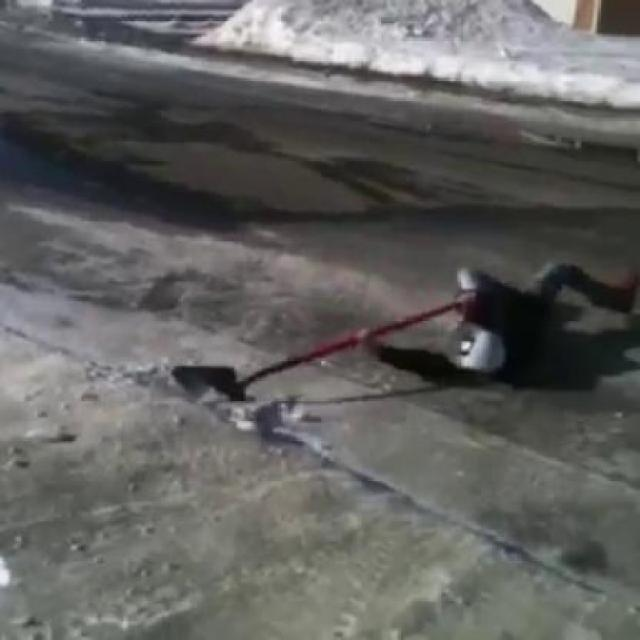fall: (364, 252, 640, 405)
